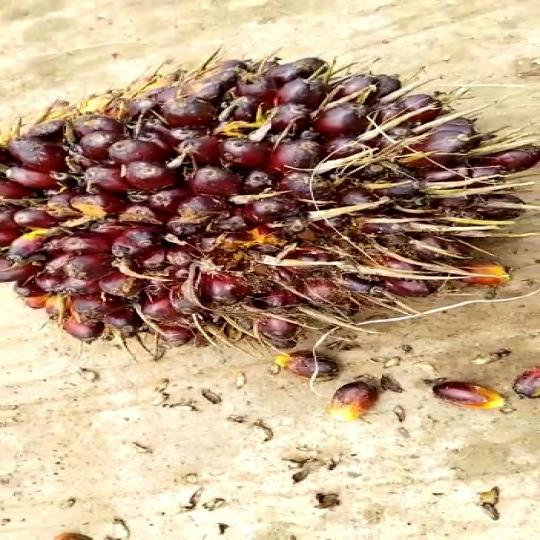kurang masak: (0, 52, 540, 346)
